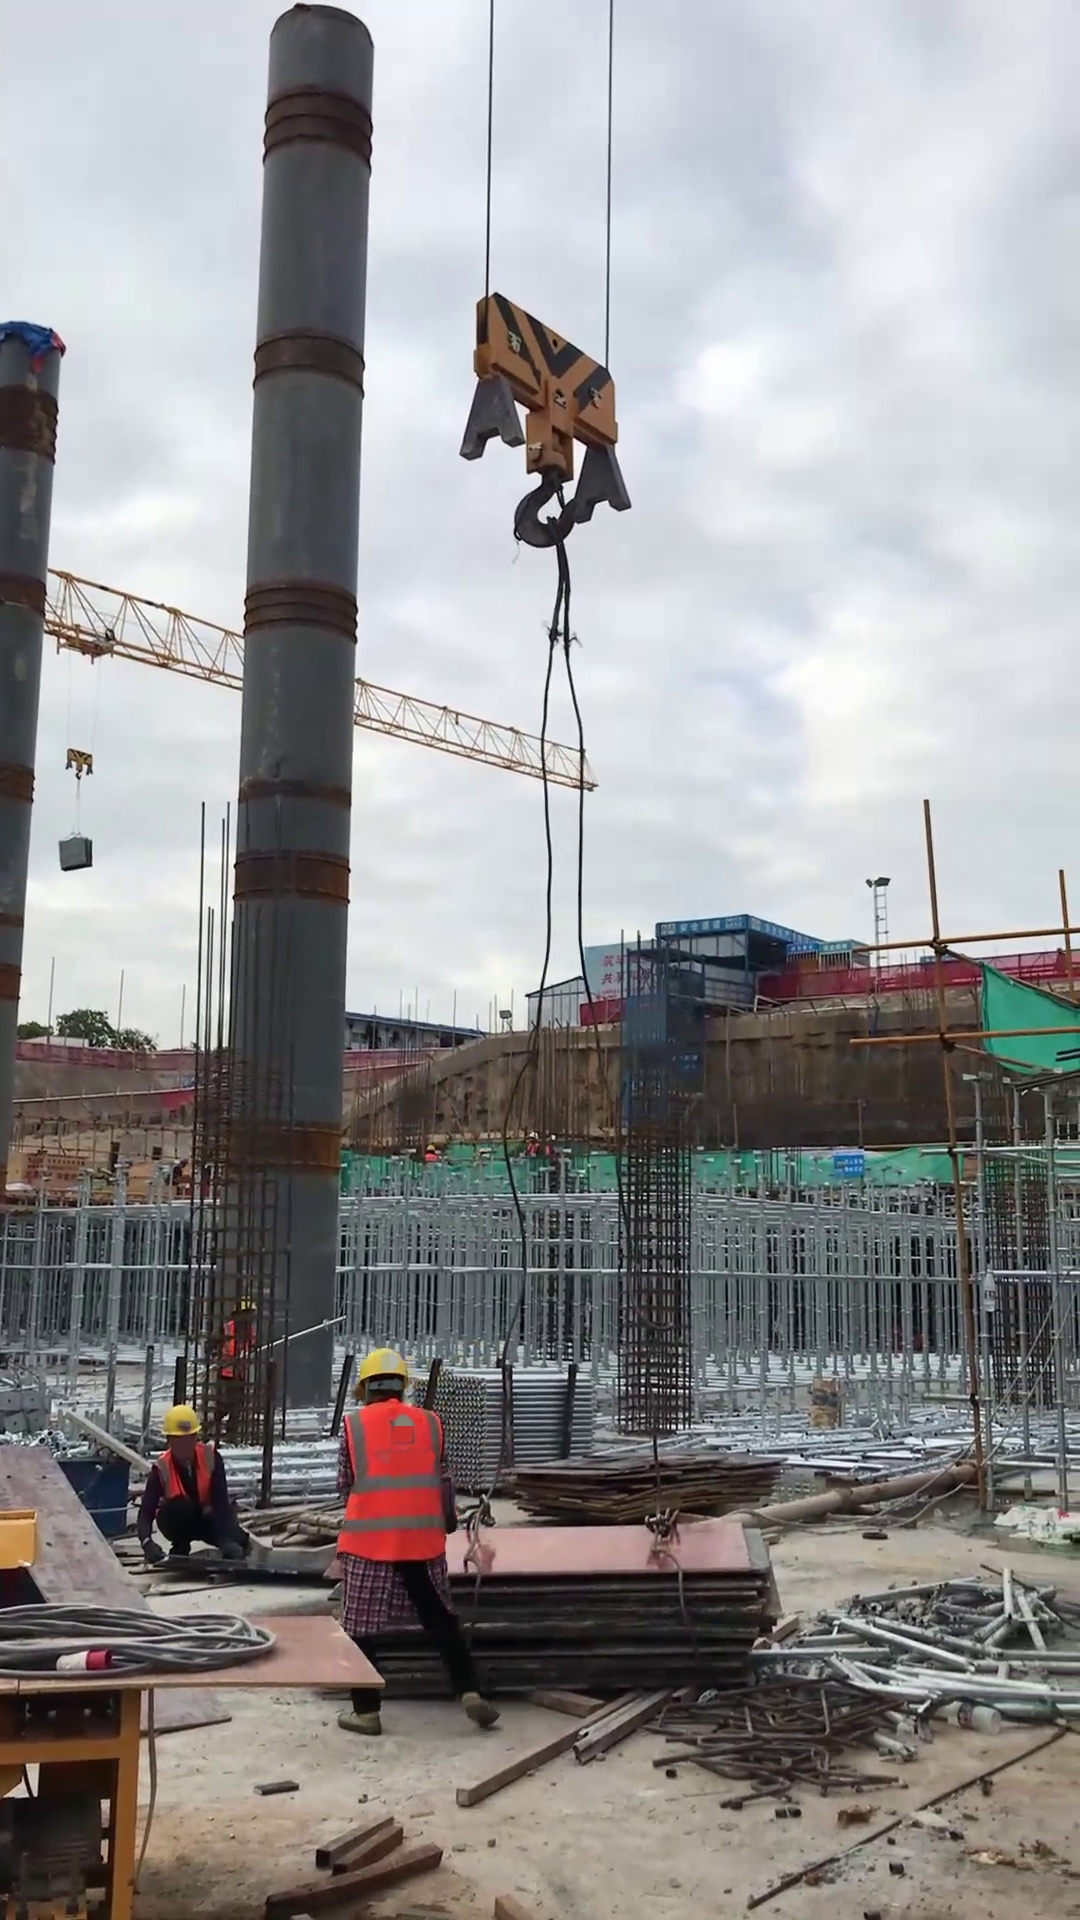board: (438, 1524, 778, 1691), (504, 1451, 791, 1522)
cutter: (1, 1504, 388, 1920)
helmet: (354, 1346, 411, 1392), (159, 1404, 203, 1439), (424, 1143, 435, 1153)
hook: (453, 290, 635, 552), (65, 745, 96, 784)
person: (327, 1346, 503, 1737), (132, 1401, 254, 1563), (206, 1293, 260, 1445)
scaffold: (408, 1363, 596, 1495), (221, 1435, 337, 1512)
slogan: (656, 916, 856, 951), (589, 945, 653, 990), (831, 1151, 866, 1180)
vest: (333, 1397, 447, 1564), (152, 1441, 218, 1510), (218, 1319, 261, 1381), (423, 1151, 439, 1163)
